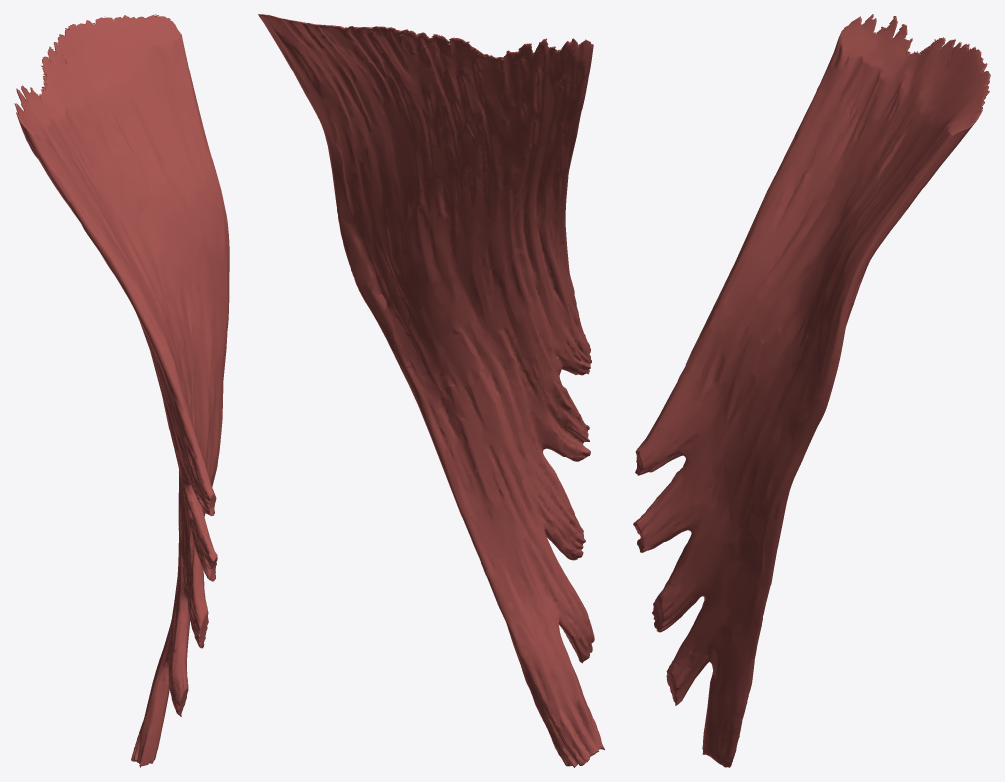
File: FMA22876.glb
3 renders of one model, left to right at view 1: azimuth 30°, elevation 25°; view 2: azimuth 150°, elevation 25°; view 3: azimuth 270°, elevation 25°, orthographic. The views are drawn at different scales.
Visible parts, largest first — view 1: FMA22876; view 2: FMA22876; view 3: FMA22876.
Part boxes in pixels (bbox=[...]): FMA22876: bbox=[14, 14, 229, 767]; FMA22876: bbox=[258, 14, 604, 767]; FMA22876: bbox=[633, 14, 990, 767].
Size of the model in its own units: 0.0402 by 0.1202 by 0.0529.
